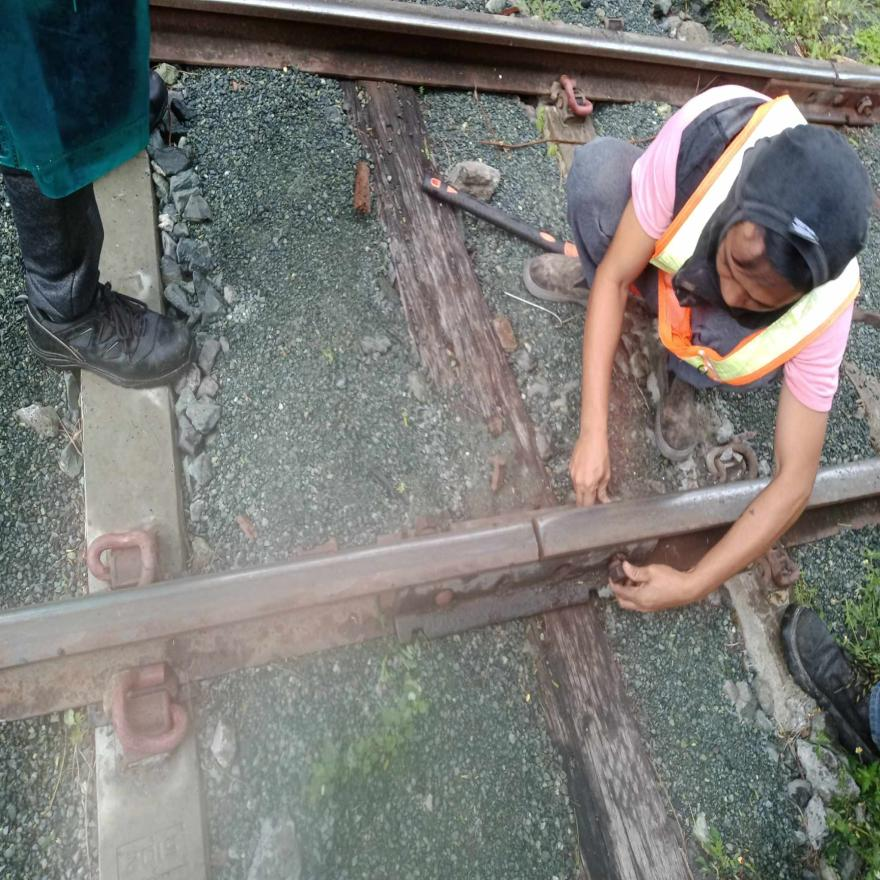railway-gap: (502, 496, 572, 584)
